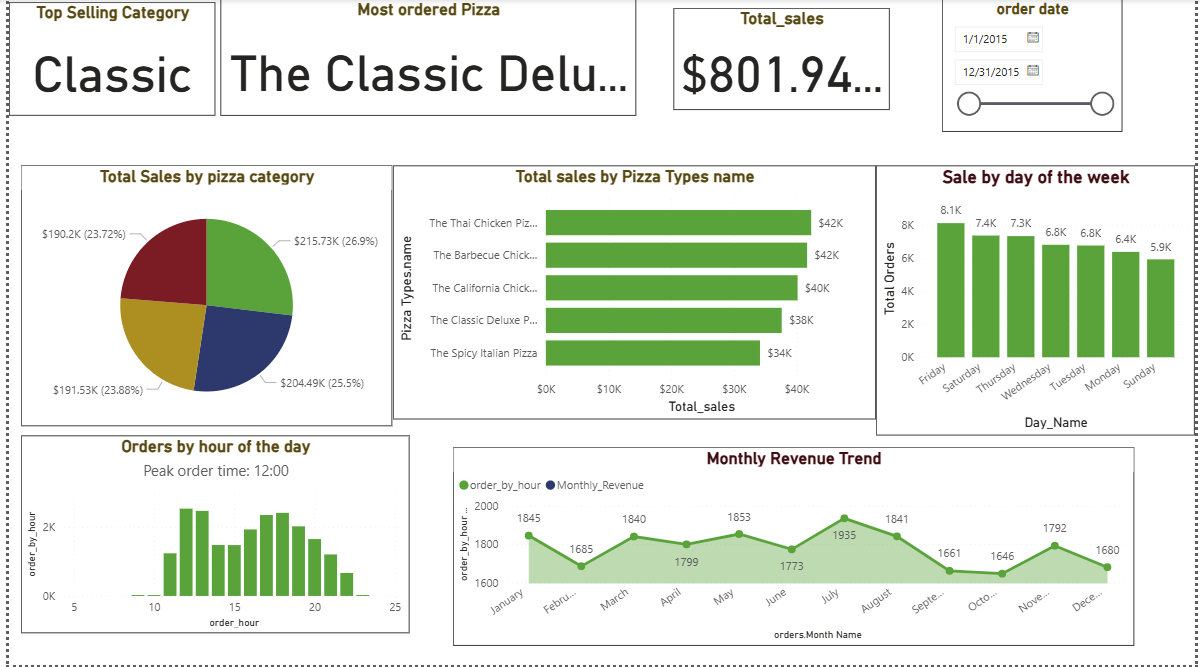

Layout of this report page (visuals, bound fields, positions):
{"tool":"powerbi","page":{"name":"Page 1","canvas":[1280,720],"ordinal":0},"visuals":[{"type":"card","title":"Total_sales","fields":{"Values":["pizzas.Total_sales"]},"box":[717.3,9.7,233.2,110.1],"z":0},{"type":"card","title":"Most ordered Pizza","fields":{"Values":["Pizza Types.Most Ordered Pizza"]},"box":[228.3,0,448.5,126.3],"z":1000},{"type":"card","title":"Top Selling Category","fields":{"Values":["Pizza Types.Top_Revenue_Category"]},"box":[0,3.8,223,122.8],"z":2000},{"type":"barChart","title":"Total sales by Pizza Types name","fields":{"Y":["pizzas.Total_sales"],"Category":["pizzas.Pizza Types.name"]},"box":[413.9,179.5,521.6,274],"z":3000},{"type":"pieChart","title":"Total Sales by pizza category","fields":{"Category":["pizzas.Pizza Types.category"],"Y":["pizzas.Total_sales"]},"box":[13.2,179.5,400.6,281.6],"z":4000},{"type":"slicer","title":"order date","fields":{"Values":["Order details.orders.date"]},"box":[1007.3,0,194.6,143.6],"z":5000},{"type":"columnChart","title":"Orders by hour of the day","fields":{"Y":["Order details.order_by_hour"],"Category":["orders.order_hour"]},"box":[13.2,470.6,419.5,213.5],"z":6000},{"type":"lineChart","title":"Monthly Revenue Trend","fields":{"Y":["Order details.order_by_hour","Order details.Monthly_Revenue"],"Category":["Order details.orders.Month Name"]},"box":[479.3,484.1,735.1,213.7],"z":7000},{"type":"clusteredColumnChart","title":"Sale by day of the week","fields":{"Y":["orders.Total Orders"],"Category":["orders.Day_Name"]},"box":[935.4,179.5,343.9,291],"z":8000}]}

Visuals, with their boxes in screenshot pixels (x1, y1, x2, y2), scaled from the page's 1280x720 canvas onto the 1200x667 screenshot:
"Total_sales" card: left=672, top=9, right=891, bottom=111
"Most ordered Pizza" card: left=214, top=0, right=634, bottom=117
"Top Selling Category" card: left=0, top=4, right=209, bottom=117
"Total sales by Pizza Types name" barChart: left=388, top=166, right=877, bottom=420
"Total Sales by pizza category" pieChart: left=12, top=166, right=388, bottom=427
"order date" slicer: left=944, top=0, right=1127, bottom=133
"Orders by hour of the day" columnChart: left=12, top=436, right=406, bottom=634
"Monthly Revenue Trend" lineChart: left=449, top=448, right=1138, bottom=646
"Sale by day of the week" clusteredColumnChart: left=877, top=166, right=1199, bottom=436
